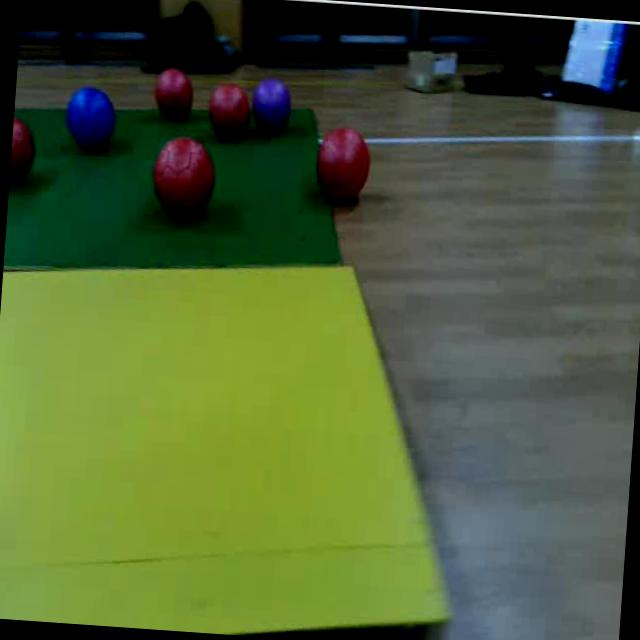blue_ball: (60, 83, 122, 156)
purple_ball: (248, 76, 294, 136)
red_ball: (148, 136, 219, 225), (308, 124, 375, 212), (202, 82, 252, 144), (151, 65, 198, 126), (8, 112, 41, 190)
